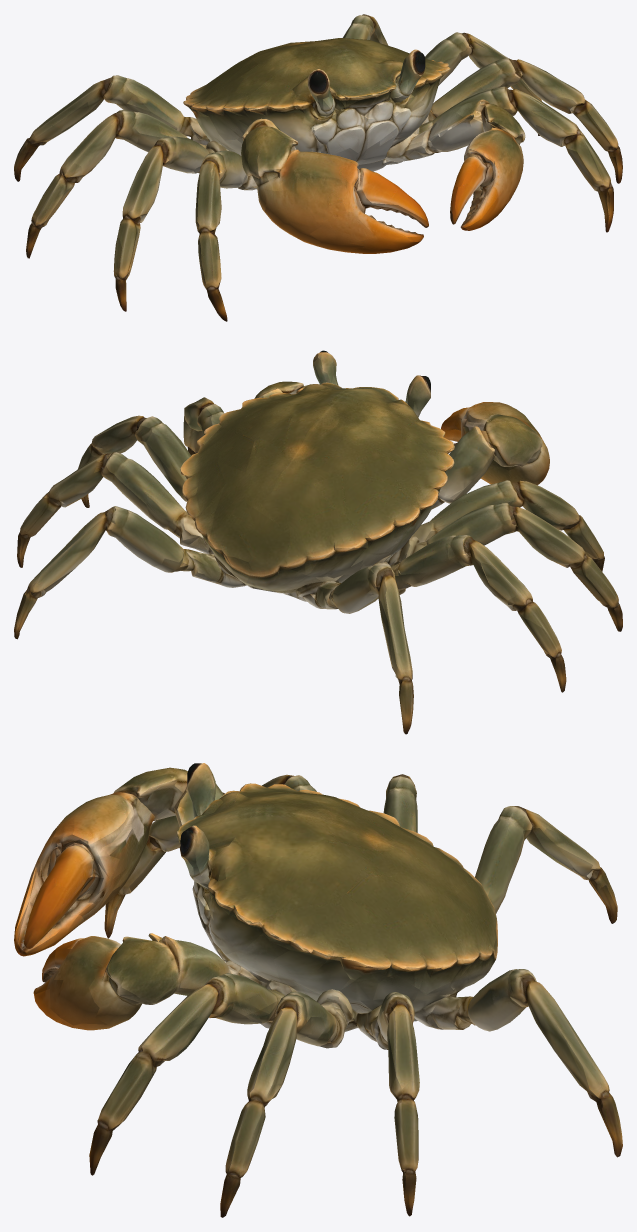
The model's file is crab.glb.
The picture shows the model from 3 angles, top to bottom: view 1: azimuth 30°, elevation 25°; view 2: azimuth 150°, elevation 25°; view 3: azimuth 270°, elevation 25°; orthographic projection. The views are drawn at different scales.
Bounding box in the file's own units: 1.9 × 0.6785 × 1.44.
Materials: 1 (1 with a texture image).
